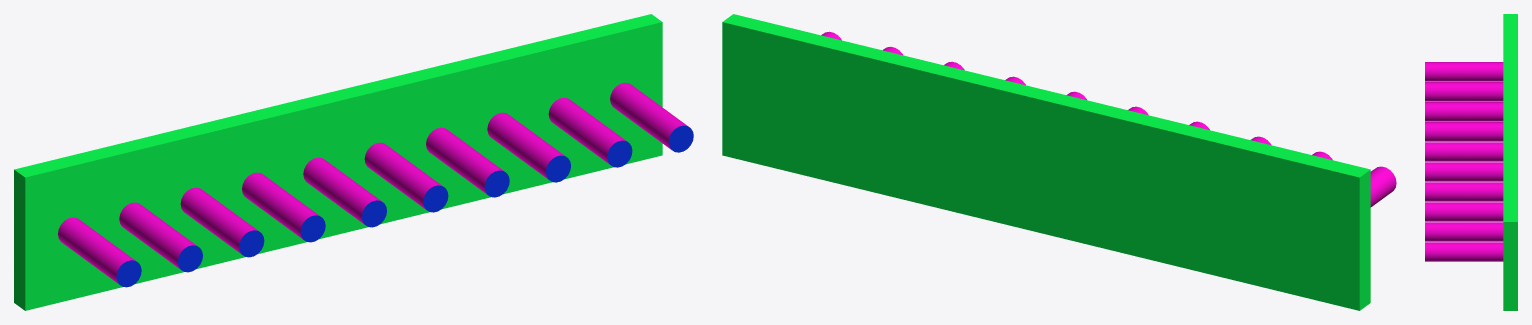
Rendered from ENV_COATRACK.FBX.
3 views of the same model, side by side, from view 1: azimuth 30°, elevation 25°; view 2: azimuth 150°, elevation 25°; view 3: azimuth 270°, elevation 25° (orthographic). The views are drawn at different scales.
Visible parts, largest first — view 1: Box001; view 2: Box001; view 3: Box001.
Part boxes in pixels (x1,y1,x2,y2): Box001: (14,14,693,310); Box001: (722,14,1396,310); Box001: (1425,14,1517,310).
Bounding box in the file's own units: 104 × 20.78 × 19.64.
